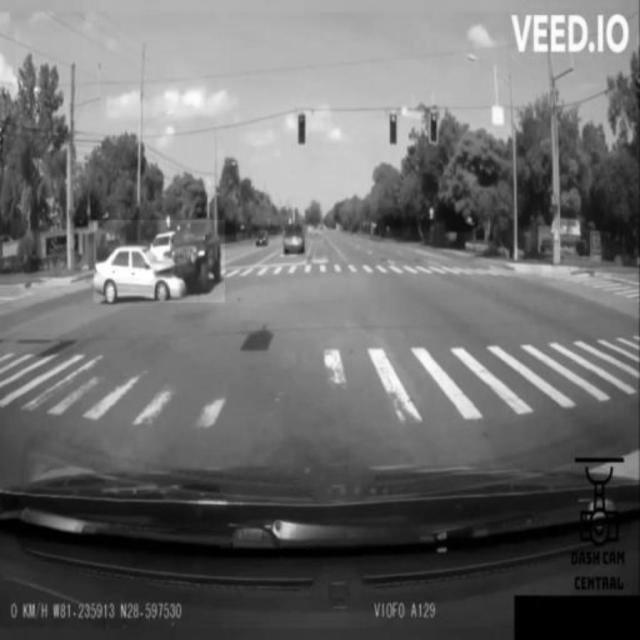accident: (94, 220, 225, 302)
vehicle: (283, 221, 308, 258)
